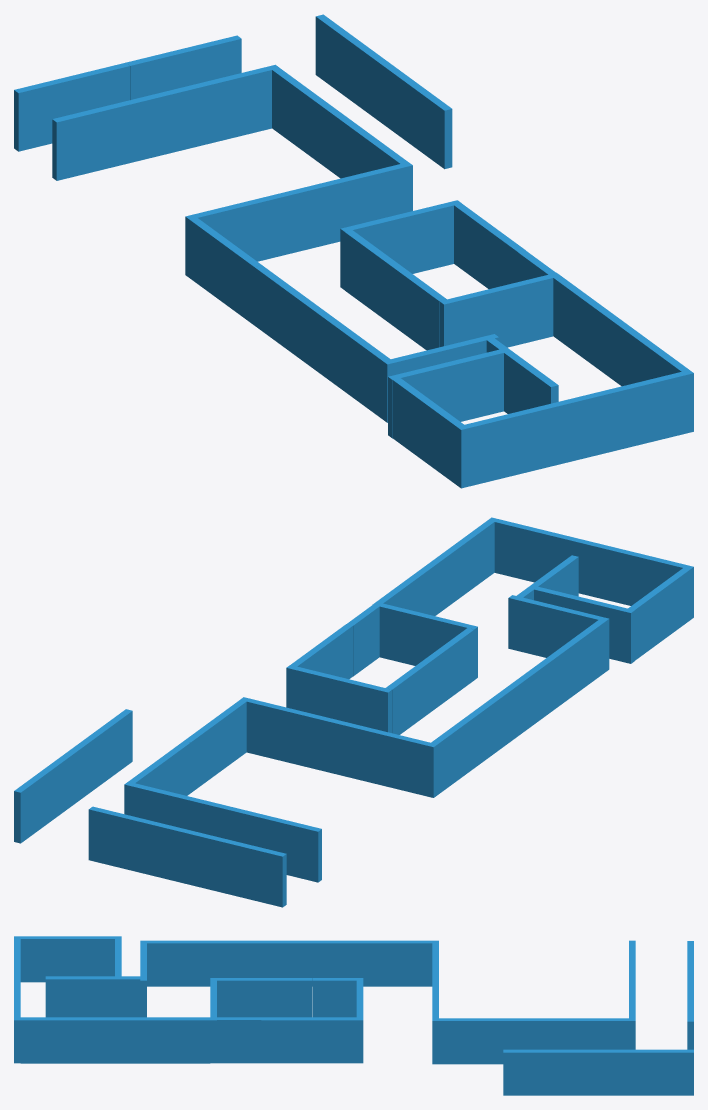
File: mAPA.gltf
3 renders of one model, top to bottom at view 1: azimuth 30°, elevation 25°; view 2: azimuth 150°, elevation 25°; view 3: azimuth 270°, elevation 25°, orthographic. The views are drawn at different scales.
Visible parts, largest first — view 1: Wall.010, Wall.009, Wall.002, Wall.003, Wall.007, Wall.005, Wall, Wall.004, Wall.011, Wall.006, WallTurn.001, WallTurn.004 (+14 smaller); view 2: Wall, Wall.004, Wall.001, Wall.005, Wall.006, Wall.009, Wall.002, Wall.010, Wall.008, Wall.007, WallTurn, Wall.003 (+15 smaller); view 3: WallTurn.001, WallTurn.008, WallTurn.012, WallTurn, WallTurn.013, WallTurn.004, WallTurn.010, WallTurn.014, WallTurn.003, WallTurn.011, WallTurn.007, WallTurn.005 (+15 smaller).
Boxes of the visible parts, x1,y1,x2,y2 form: Wall.010: (456, 398, 578, 488); Wall.009: (573, 370, 693, 459); Wall.002: (52, 92, 168, 180); Wall.003: (164, 64, 279, 153); Wall.007: (439, 272, 560, 347); Wall.005: (297, 162, 412, 250); Wall: (14, 62, 129, 151); Wall.004: (185, 189, 301, 277); Wall.011: (388, 349, 503, 438); Wall.006: (340, 200, 461, 290); WallTurn.001: (380, 61, 452, 169); WallTurn.004: (189, 218, 261, 324); Wall: (185, 830, 286, 907); Wall.004: (336, 721, 437, 797); Wall.001: (88, 806, 189, 883); Wall.005: (240, 697, 340, 774); Wall.006: (286, 665, 391, 732); Wall.009: (488, 517, 592, 595); Wall.002: (221, 805, 321, 882); Wall.010: (588, 542, 693, 620); Wall.008: (508, 595, 609, 671); Wall.007: (372, 602, 477, 679); WallTurn: (14, 750, 76, 843); Wall.003: (124, 781, 224, 837); WallTurn.001: (503, 1049, 598, 1095); WallTurn.008: (261, 1017, 356, 1063); WallTurn.012: (115, 1017, 210, 1063); WallTurn: (598, 1049, 693, 1095); WallTurn.013: (20, 1017, 115, 1063); WallTurn.004: (337, 940, 432, 986); WallTurn.010: (147, 940, 241, 986); WallTurn.014: (20, 936, 115, 982); WallTurn.003: (439, 1018, 534, 1064); WallTurn.011: (45, 976, 140, 1017); WallTurn.007: (217, 978, 311, 1017); WallTurn.005: (242, 940, 337, 986).
Size of the model in its own units: 23.13 by 4.01 by 57.13.
